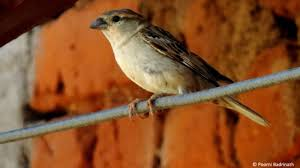hsparrow: (85, 7, 278, 138)
